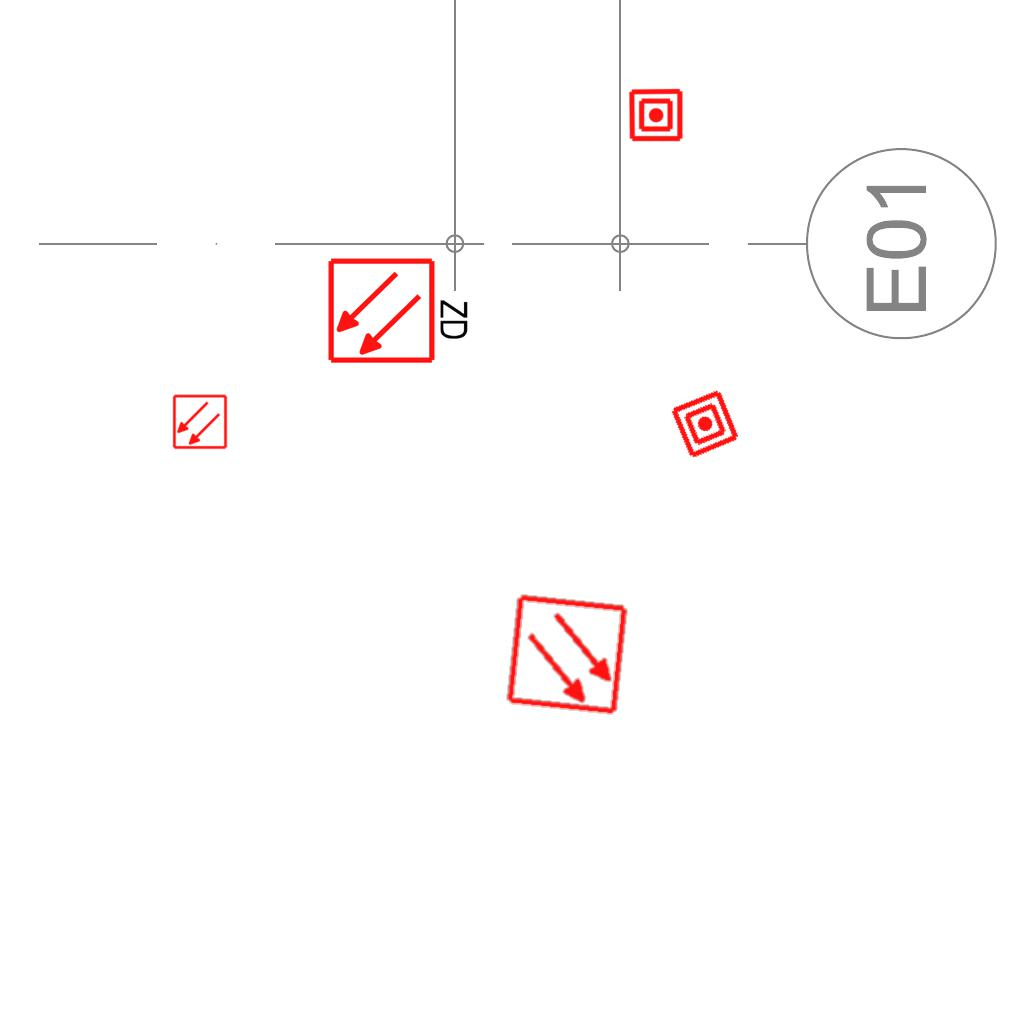NAM-Nichtautomatischer_Melder: (668, 387, 742, 461), (628, 87, 684, 143)
RMO_Rauchmelder_optischer: (505, 592, 630, 717), (172, 394, 228, 450)
ZD_Melder_in_Zwischendecke_mit_Revisionsoeffnung_mind_40_x_40_cm: (326, 252, 475, 366)
